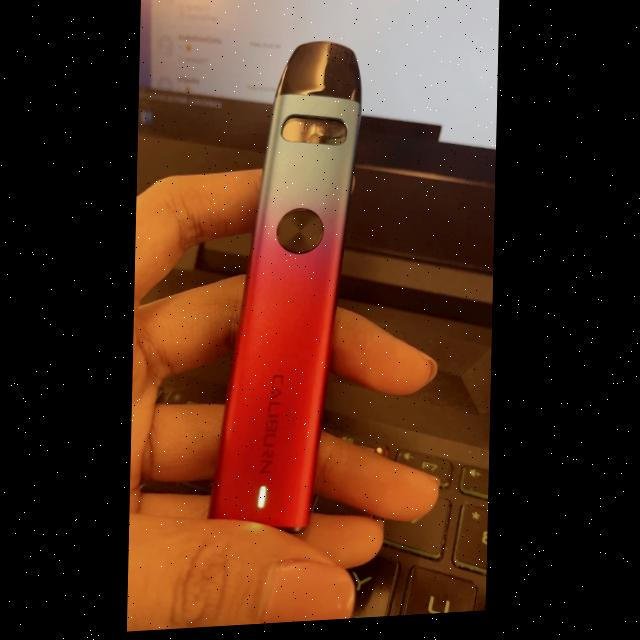vape: (209, 41, 366, 542)
